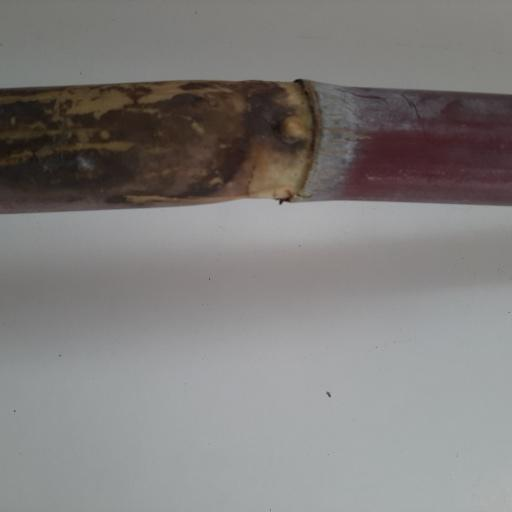Bud: (277, 112, 309, 143)
